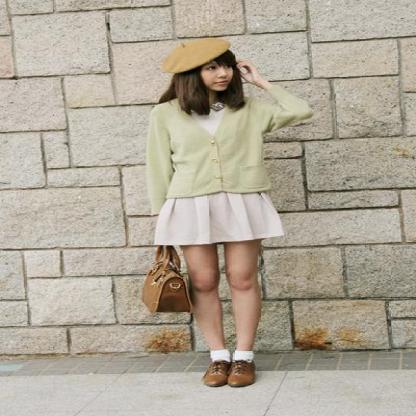bag: (134, 245, 198, 324)
hat: (168, 37, 229, 73)
jacket: (142, 80, 302, 208)
shirt: (198, 99, 236, 133)
shoe: (202, 358, 256, 387)
skirt: (154, 192, 284, 248)
